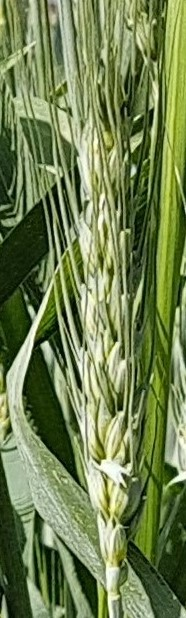Healthy Wheat: (58, 119, 144, 554)
